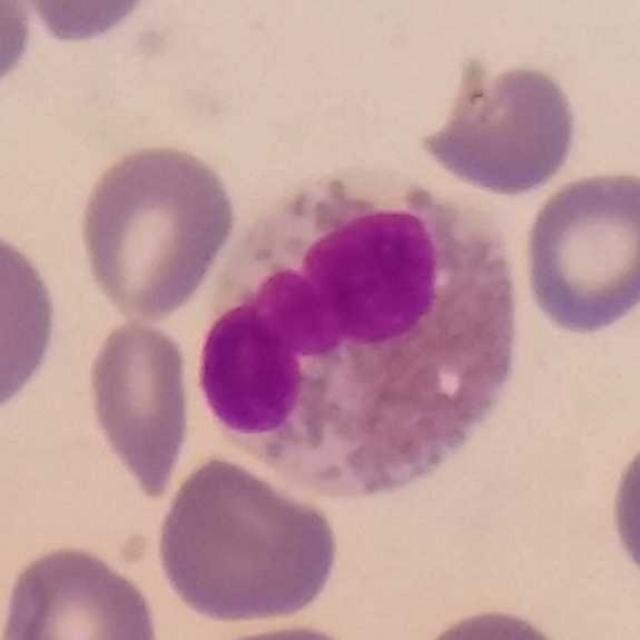eosino: (199, 160, 519, 506)
